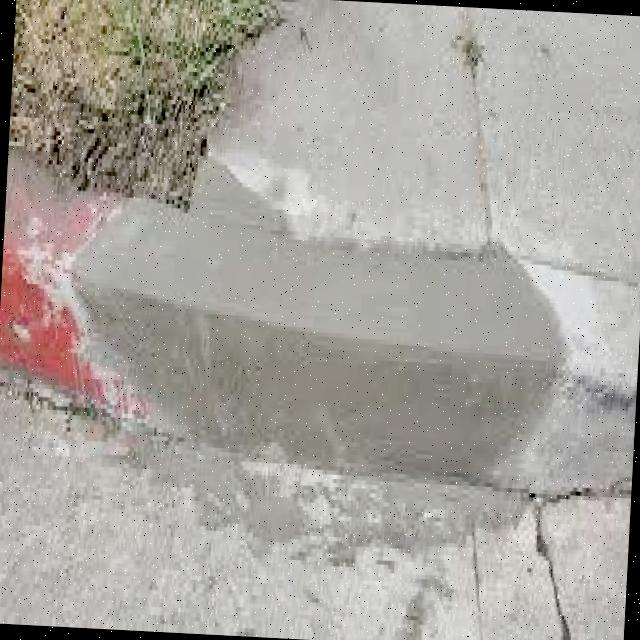curb: (71, 194, 567, 499)
